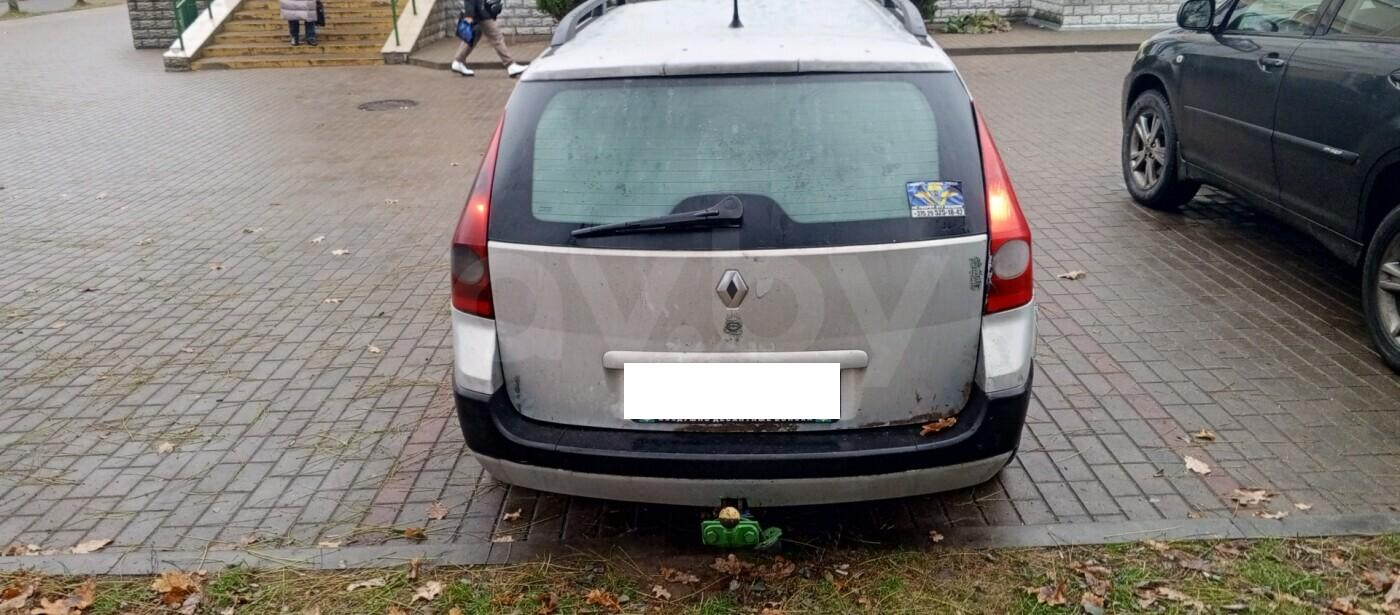Megane_2002-2006: (436, 0, 1058, 544)
